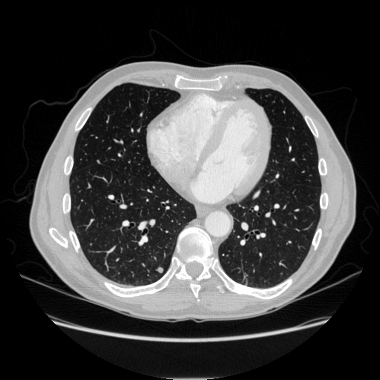nodule: (157, 267, 163, 273)
